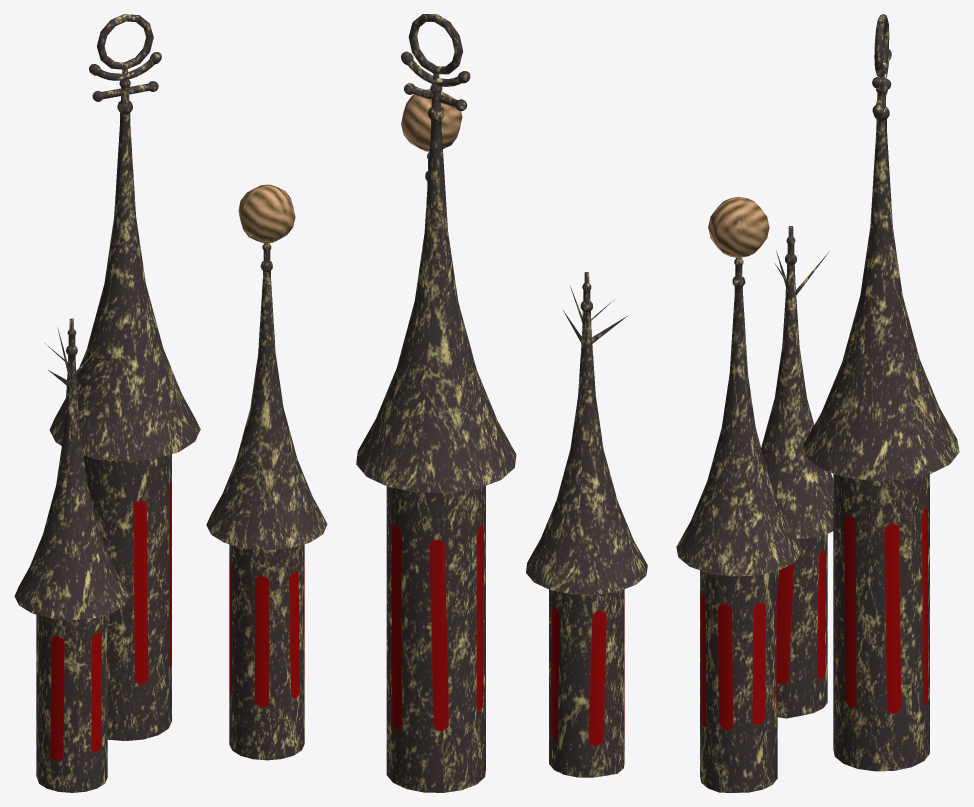
File: Teapot Island towers separate.fbx
3 views of the same model, side by side, from view 1: azimuth 30°, elevation 25°; view 2: azimuth 150°, elevation 25°; view 3: azimuth 270°, elevation 25° (orthographic). The views are drawn at different scales.
Visible parts, largest first — view 1: Cylinder.021, Cylinder.000, Cylinder.022; view 2: Cylinder.021, Cylinder.022, Cylinder.000; view 3: Cylinder.021, Cylinder.000, Cylinder.022.
Part boxes in pixels (x1,y1,x2,y2): Cylinder.021: (49,14,200,740); Cylinder.000: (206,184,327,760); Cylinder.022: (14,318,129,792); Cylinder.021: (356,14,516,792); Cylinder.022: (526,272,647,777); Cylinder.000: (401,89,462,185); Cylinder.021: (803,14,959,771); Cylinder.000: (676,196,801,792); Cylinder.022: (761,226,833,718).
Size of the model in its own units: 1059 by 2641 by 922.
